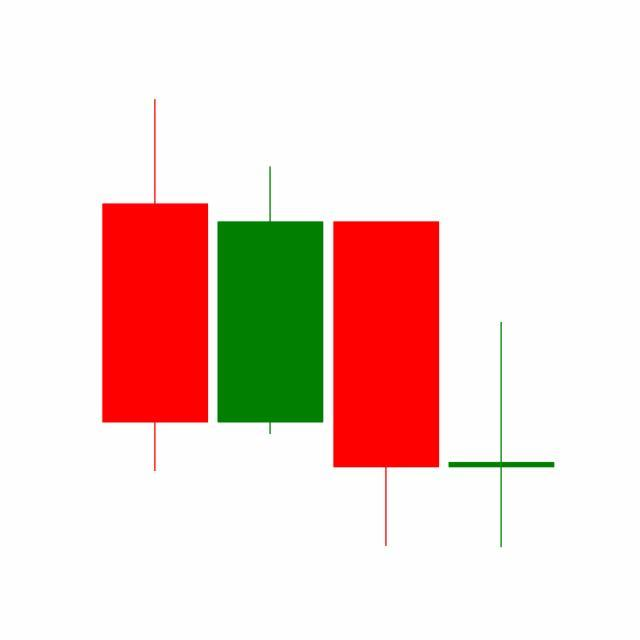Spinning Top: (444, 320, 560, 551)
